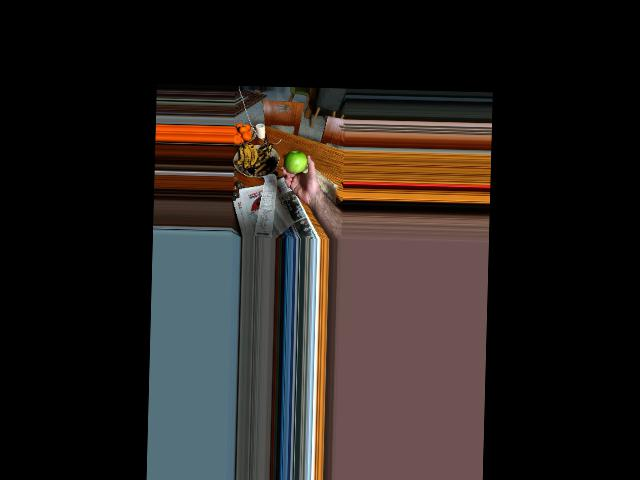apple: (283, 147, 309, 175)
